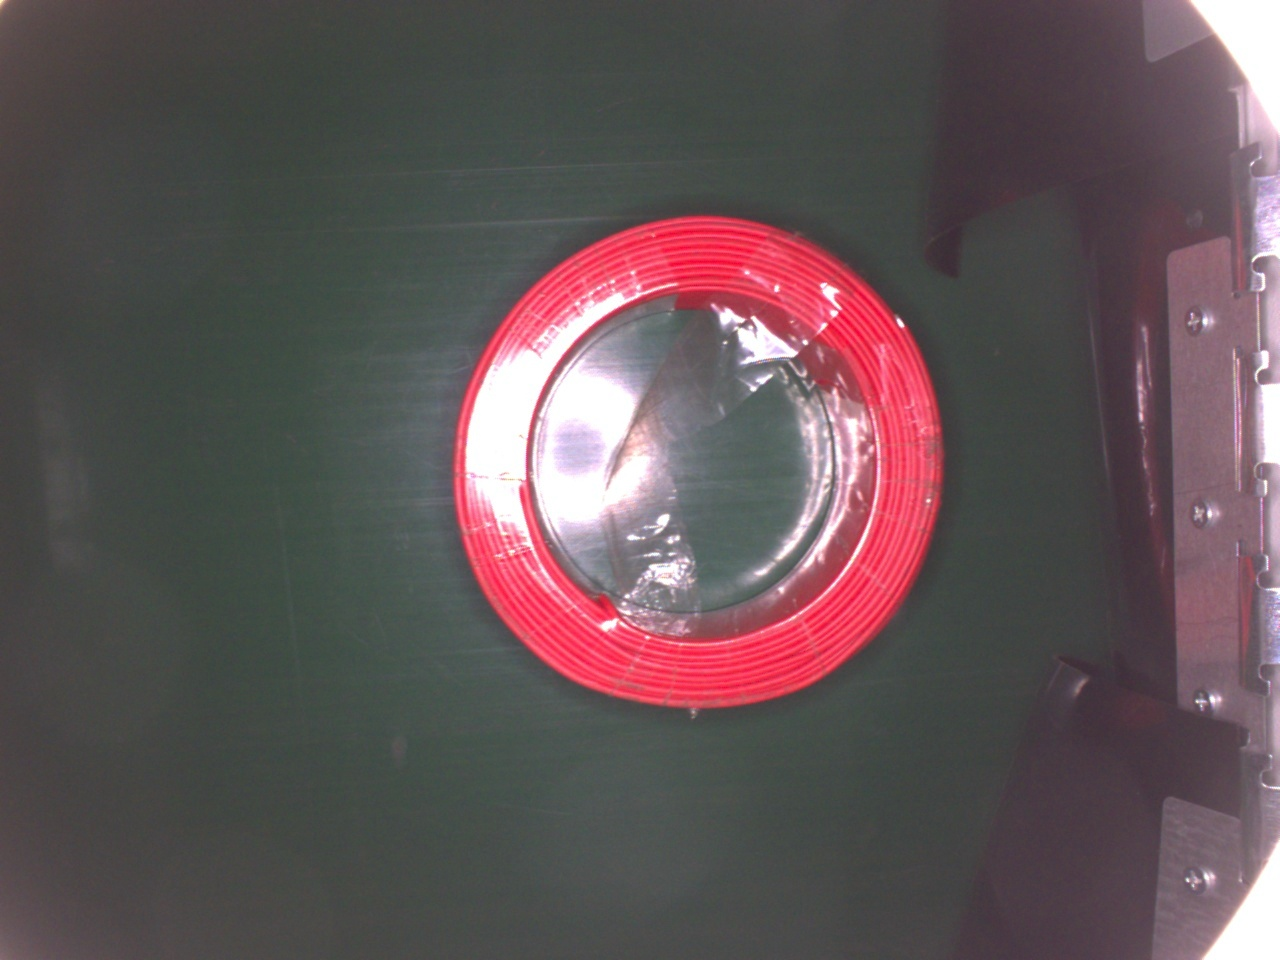red: (445, 211, 950, 723)
